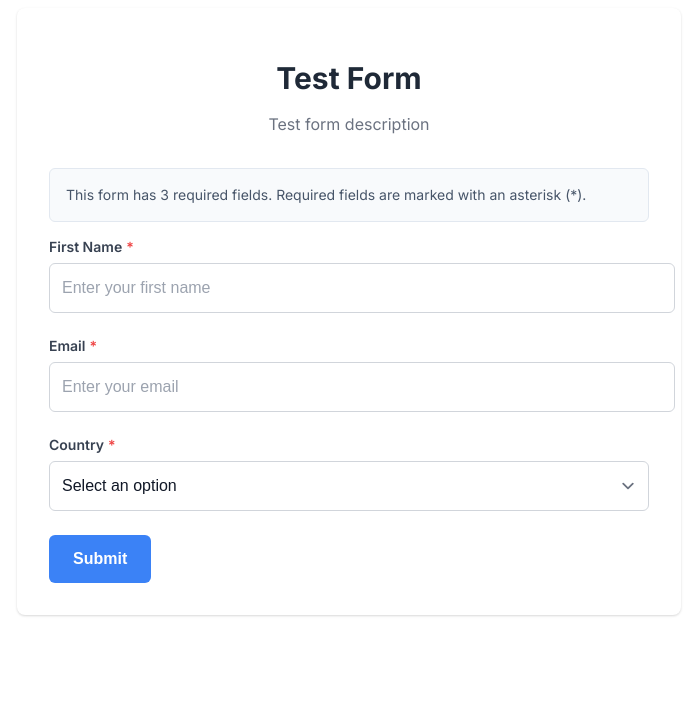
Test case: Form Component › shows reset button when form has data
Expected: the text "Reset Form" is not shown
# Fill in a field
Type "John" into the field labelled "First Name*" at (362, 288), box [49,263,675,313]
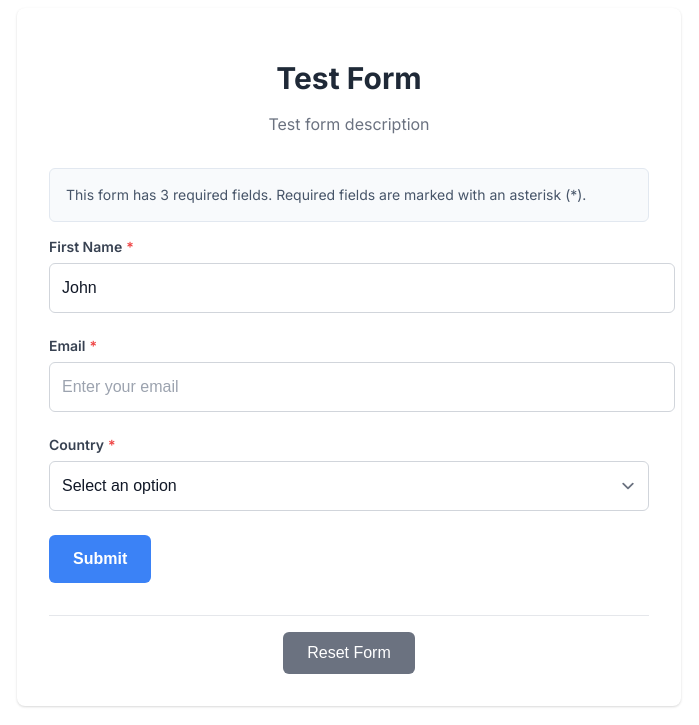
Expected: the button "Reset Form" is shown, [283,632,415,674]
